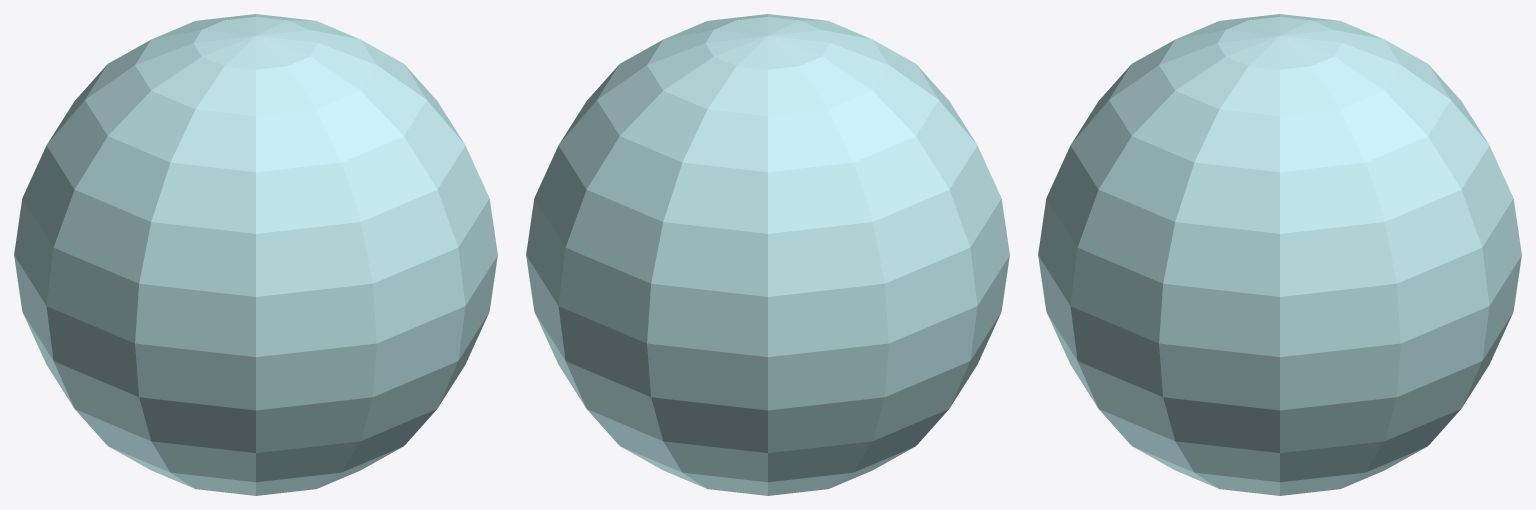
File: bullet.obj
The picture shows the model from 3 angles, left to right: view 1: azimuth 30°, elevation 25°; view 2: azimuth 150°, elevation 25°; view 3: azimuth 270°, elevation 25°; orthographic projection.
Visible parts, largest first — view 1: Sphere; view 2: Sphere; view 3: Sphere.
Boxes of the visible parts, x1=… form: Sphere: x1=14, y1=14, x2=497, y2=495; Sphere: x1=526, y1=14, x2=1009, y2=495; Sphere: x1=1038, y1=14, x2=1521, y2=495.
Bounding box in the file's own units: 0.367 × 0.367 × 0.367.
Materials: 1 (1 with a texture image).
